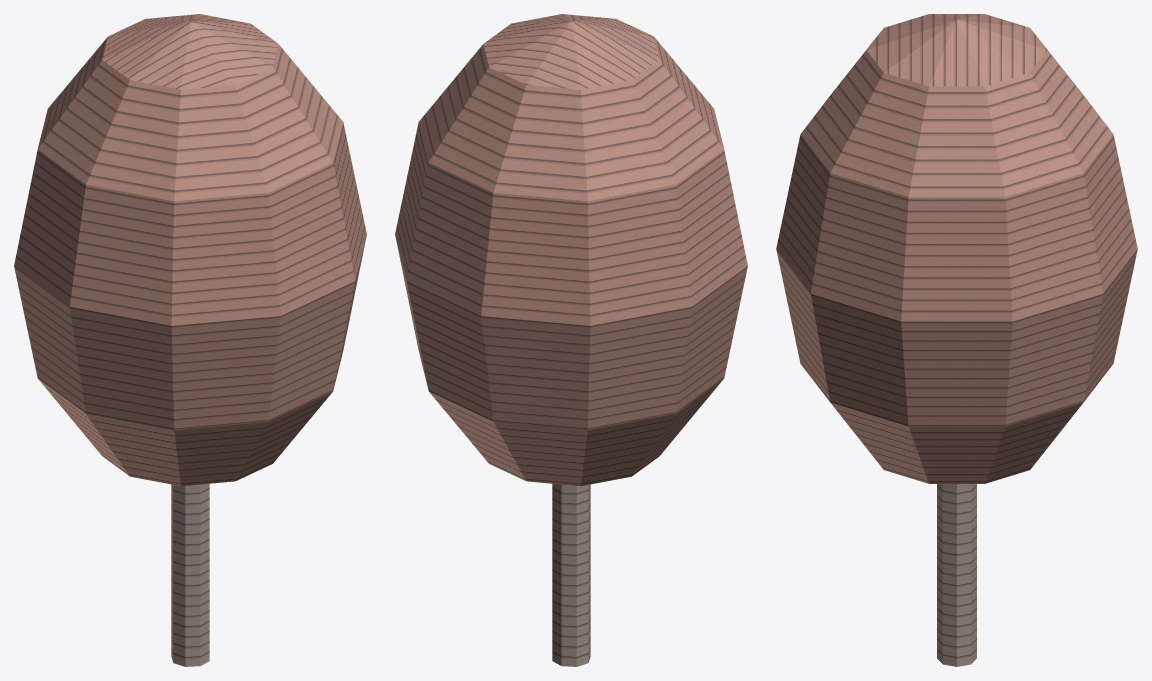
Rendered from tree_black_willow.glb.
3 views of the same model, side by side, from view 1: azimuth 30°, elevation 25°; view 2: azimuth 150°, elevation 25°; view 3: azimuth 270°, elevation 25° (orthographic).
Parts seen in each view (by area): view 1: tree_black_willow-col; view 2: tree_black_willow-col; view 3: tree_black_willow-col.
Boxes of the visible parts, x1,y1,x2,y2 form: tree_black_willow-col: (14,14,366,666); tree_black_willow-col: (395,14,747,666); tree_black_willow-col: (776,14,1137,666).
Bounding box in the file's own units: 3.8 × 7.8 × 4.
Materials: 2 (2 with a texture image).
